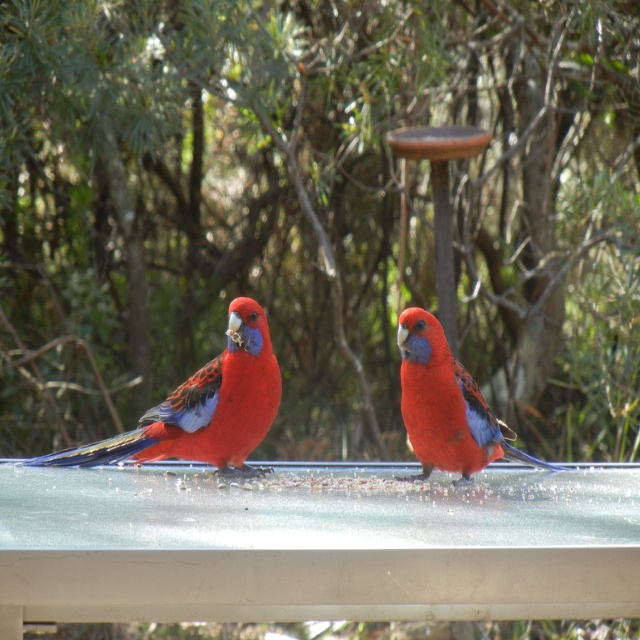Parrot: (14, 298, 284, 479), (396, 306, 567, 487)
